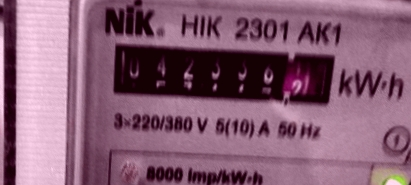0: (127, 51, 141, 80)
2: (179, 52, 198, 79)
3: (206, 51, 223, 81), (236, 52, 250, 80)
4: (153, 51, 170, 78)
6: (261, 57, 276, 85)
screen: (102, 30, 343, 115)
